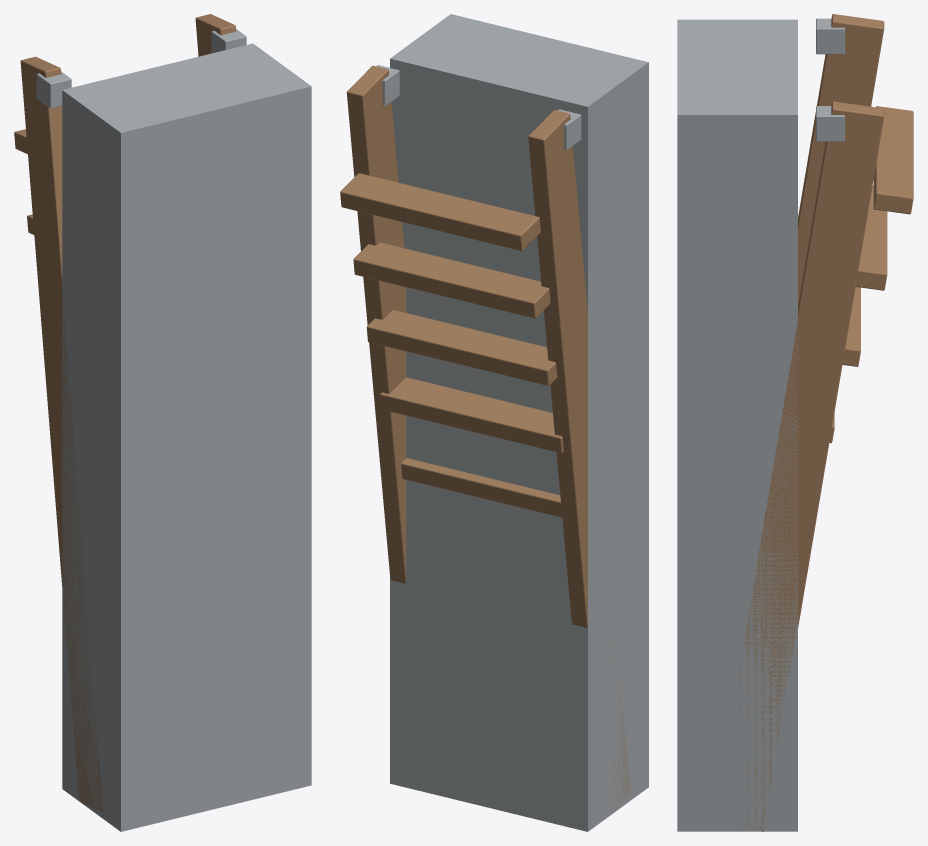
Rendered from library_ladder.glb.
3 renders of one model, left to right at view 1: azimuth 30°, elevation 25°; view 2: azimuth 150°, elevation 25°; view 3: azimuth 270°, elevation 25°, orthographic. The views are drawn at different scales.
Parts seen in each view (by area): view 1: propkit_library_ladder_COL, propkit_library_ladder_001_rail, propkit_library_ladder_002_rail, propkit_library_ladder_011_hook, propkit_library_ladder_012_hook; view 2: propkit_library_ladder_COL, propkit_library_ladder_001_rail, propkit_library_ladder_002_rail, propkit_library_ladder_010_rung_7, propkit_library_ladder_009_rung_6, propkit_library_ladder_008_rung_5, propkit_library_ladder_007_rung_4, propkit_library_ladder_006_rung_3, propkit_library_ladder_012_hook, propkit_library_ladder_011_hook; view 3: propkit_library_ladder_COL, propkit_library_ladder_002_rail, propkit_library_ladder_001_rail, propkit_library_ladder_010_rung_7, propkit_library_ladder_009_rung_6, propkit_library_ladder_008_rung_5, propkit_library_ladder_011_hook, propkit_library_ladder_012_hook.
Boxes of the visible parts, bbox=[...] form: propkit_library_ladder_COL: bbox=[62, 43, 311, 831]; propkit_library_ladder_001_rail: bbox=[20, 56, 103, 812]; propkit_library_ladder_002_rail: bbox=[195, 14, 236, 56]; propkit_library_ladder_011_hook: bbox=[36, 72, 71, 108]; propkit_library_ladder_012_hook: bbox=[211, 29, 246, 53]; propkit_library_ladder_COL: bbox=[390, 14, 648, 831]; propkit_library_ladder_001_rail: bbox=[528, 110, 630, 819]; propkit_library_ladder_002_rail: bbox=[346, 65, 406, 583]; propkit_library_ladder_010_rung_7: bbox=[340, 173, 540, 251]; propkit_library_ladder_009_rung_6: bbox=[353, 242, 550, 318]; propkit_library_ladder_008_rung_5: bbox=[366, 310, 557, 385]; propkit_library_ladder_007_rung_4: bbox=[380, 377, 563, 453]; propkit_library_ladder_006_rung_3: bbox=[401, 458, 562, 517]; propkit_library_ladder_012_hook: bbox=[376, 65, 399, 106]; propkit_library_ladder_011_hook: bbox=[558, 109, 581, 150]; propkit_library_ladder_COL: bbox=[677, 19, 797, 831]; propkit_library_ladder_002_rail: bbox=[739, 101, 884, 831]; propkit_library_ladder_001_rail: bbox=[798, 14, 884, 303]; propkit_library_ladder_010_rung_7: bbox=[873, 106, 913, 214]; propkit_library_ladder_009_rung_6: bbox=[855, 185, 887, 290]; propkit_library_ladder_008_rung_5: bbox=[842, 287, 860, 366]; propkit_library_ladder_011_hook: bbox=[816, 18, 844, 54]; propkit_library_ladder_012_hook: bbox=[816, 106, 844, 141].
Bounding box in the file's own units: 0.6175 × 2.12 × 0.6271.
